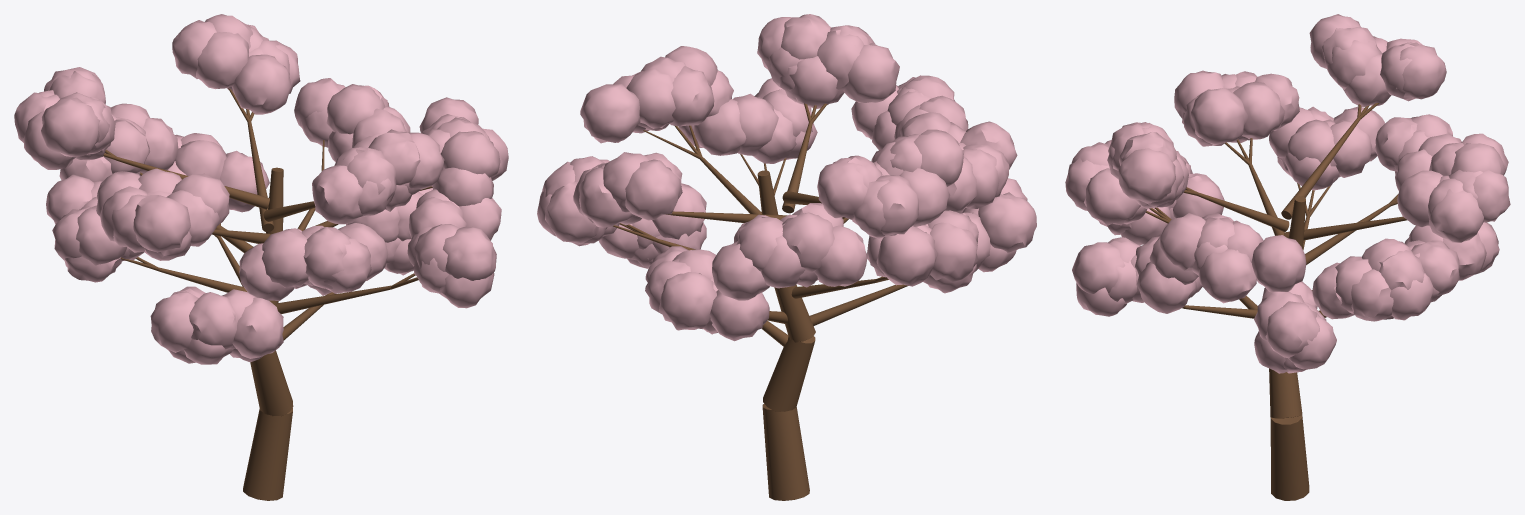
File: cherry_tree.glb
3 views of the same model, side by side, from view 1: azimuth 30°, elevation 25°; view 2: azimuth 150°, elevation 25°; view 3: azimuth 270°, elevation 25° (orthographic). The views are drawn at different scales.
Visible parts, largest first — view 1: Detail.cherry_tree.Pink, Detail.cherry_tree.Wood; view 2: Detail.cherry_tree.Pink, Detail.cherry_tree.Wood; view 3: Detail.cherry_tree.Pink, Detail.cherry_tree.Wood.
Boxes of the visible parts, box(x1,y1,x2,y2) form: Detail.cherry_tree.Pink: box(14, 14, 508, 364); Detail.cherry_tree.Wood: box(103, 88, 432, 500); Detail.cherry_tree.Pink: box(537, 14, 1036, 341); Detail.cherry_tree.Wood: box(613, 103, 908, 500); Detail.cherry_tree.Pink: box(1065, 14, 1510, 373); Detail.cherry_tree.Wood: box(1146, 103, 1407, 500).
Bounding box in the file's own units: 6.04 × 5.98 × 6.04.
